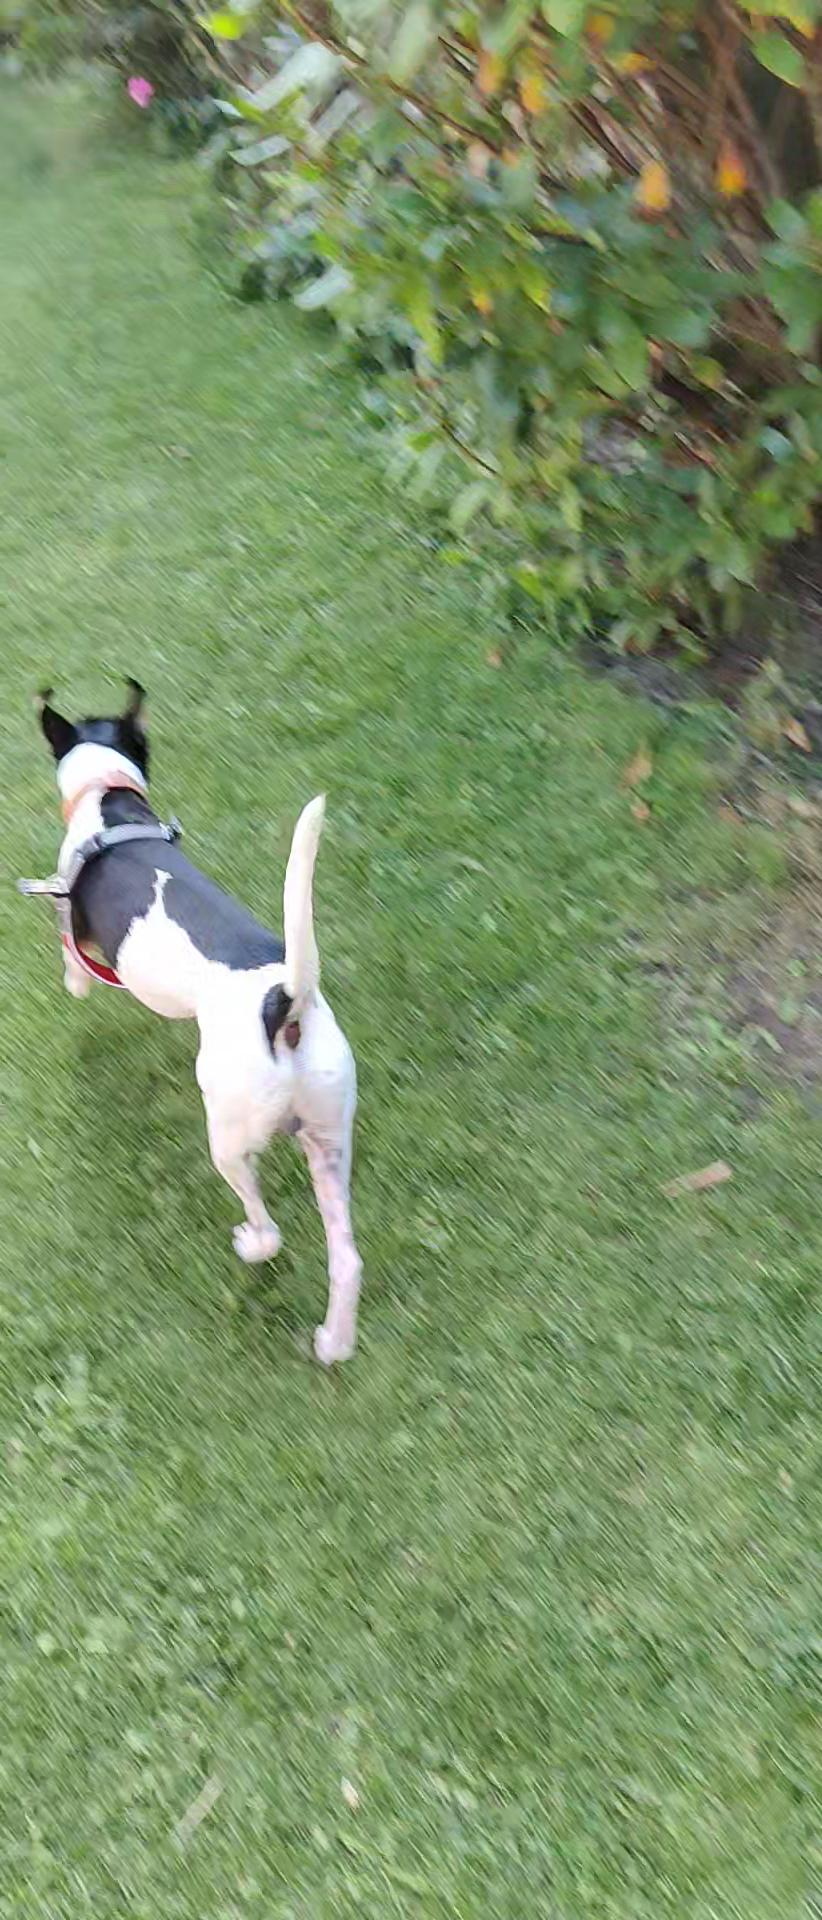Dog: (7, 654, 376, 1387)
